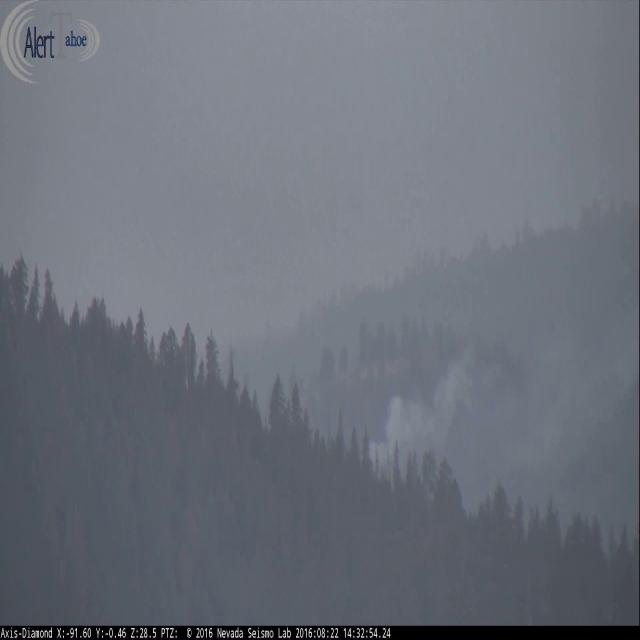smoke: (360, 328, 640, 471)
